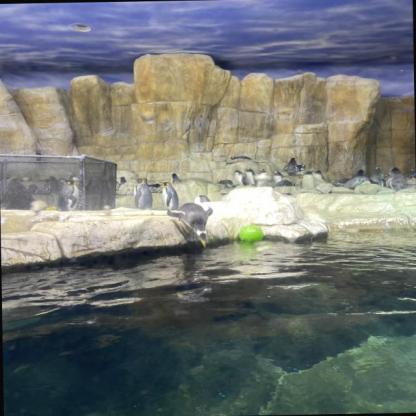penguin: (170, 204, 218, 246), (50, 180, 82, 212), (128, 176, 153, 210), (161, 180, 178, 209), (296, 170, 315, 192), (244, 167, 260, 191), (386, 167, 401, 190), (230, 168, 246, 188), (286, 156, 302, 176), (47, 174, 63, 192), (370, 165, 385, 184), (168, 169, 184, 185), (269, 170, 283, 185), (310, 168, 323, 184), (41, 178, 49, 194), (355, 168, 364, 182), (116, 174, 126, 186)
